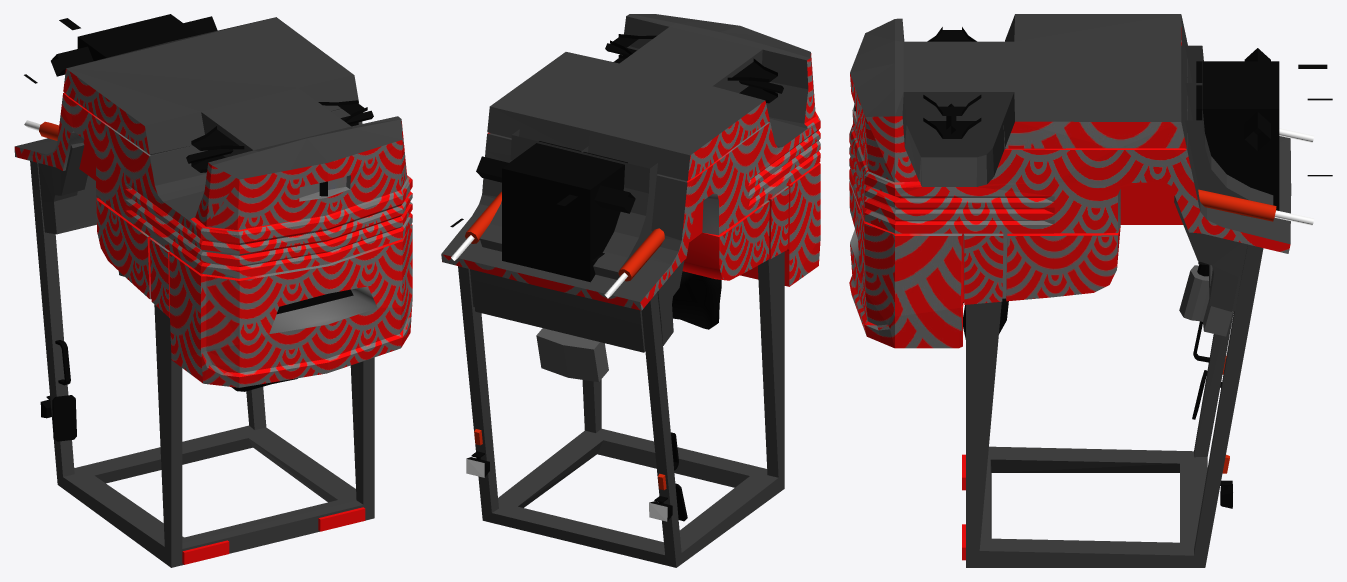
Rendered from wozek_rama.FBX.
The picture shows the model from 3 angles, left to right: view 1: azimuth 30°, elevation 25°; view 2: azimuth 150°, elevation 25°; view 3: azimuth 270°, elevation 25°; orthographic projection. The views are drawn at different scales.
Parts seen in each view (by area): view 1: rama; view 2: rama; view 3: rama.
Boxes of the visible parts, x1,y1,x2,y2 form: rama: (14,14,412,567); rama: (441,14,820,567); rama: (849,14,1332,567).
Bounding box in the file's own units: 10.4 × 19.21 × 19.83.
Materials: 11 (2 with a texture image).
